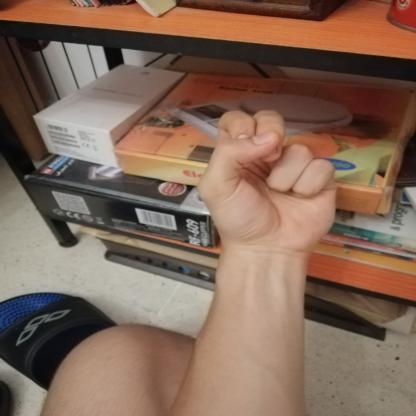QAAF: (176, 96, 357, 273)
